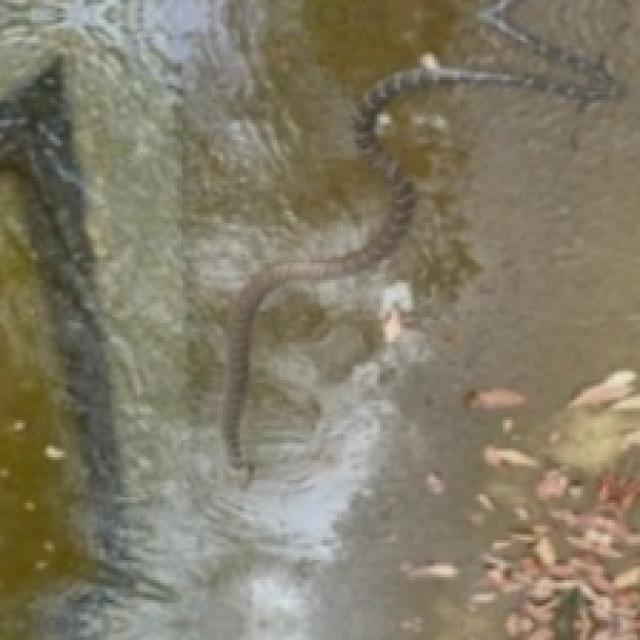king cobra: (223, 0, 620, 469)
